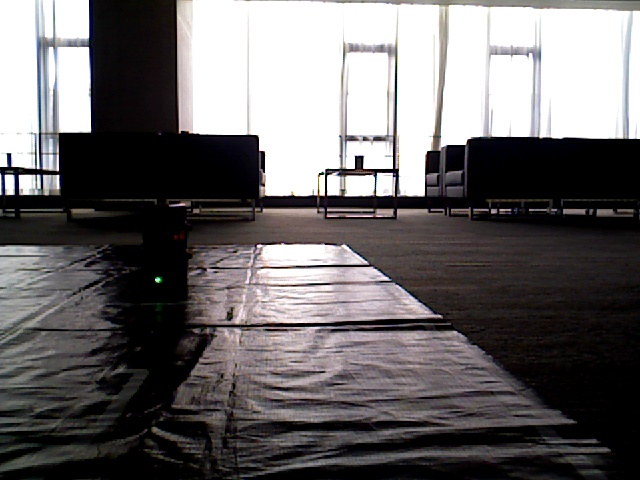green: (146, 210, 181, 295)
